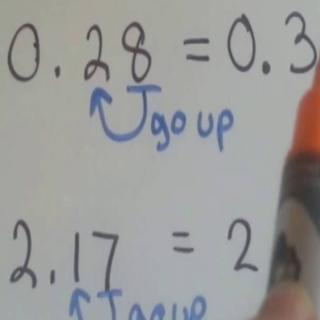.: (259, 59, 272, 76), (46, 265, 57, 285), (52, 65, 63, 78)
0: (5, 21, 42, 82), (225, 13, 258, 72)
1: (70, 231, 82, 283)
2: (8, 218, 41, 290), (224, 218, 263, 273), (82, 24, 114, 83)
3: (282, 11, 318, 73)
7: (90, 227, 121, 290)
8: (119, 21, 156, 84)
